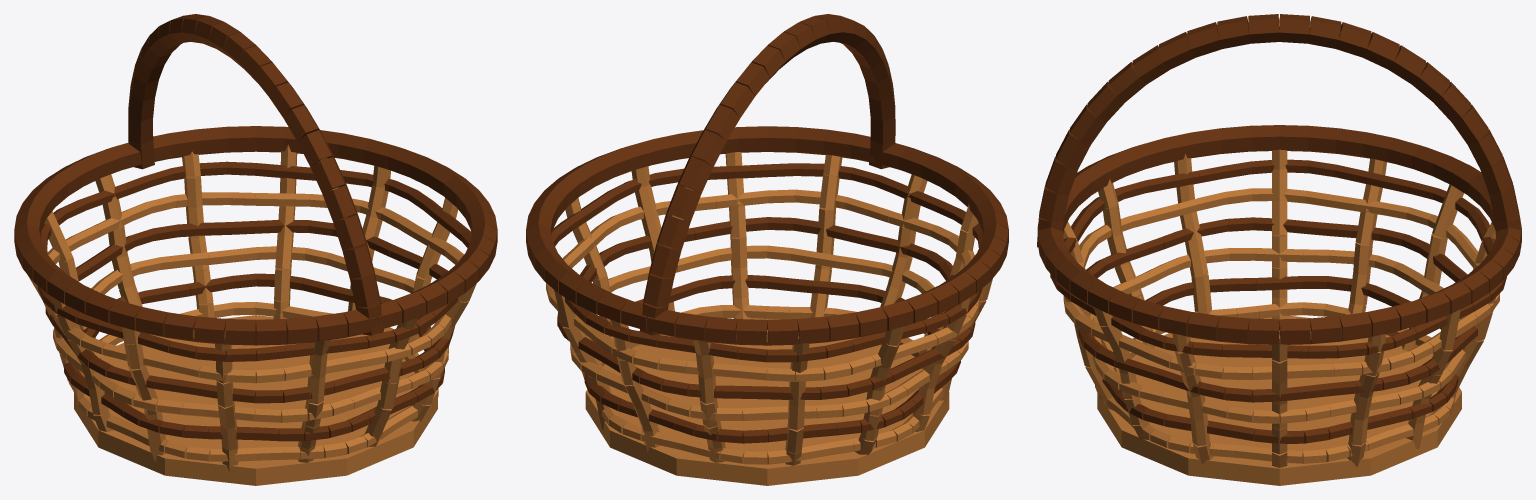
Rendered from Wicker Basket.fbx.
3 views of the same model, side by side, from view 1: azimuth 30°, elevation 25°; view 2: azimuth 150°, elevation 25°; view 3: azimuth 270°, elevation 25° (orthographic).
Parts seen in each view (by area): view 1: WickerBasket; view 2: WickerBasket; view 3: WickerBasket.
Boxes of the visible parts, left/top/right/bottom form: WickerBasket: left=14, top=14, right=497, bottom=485; WickerBasket: left=526, top=14, right=1008, bottom=485; WickerBasket: left=1037, top=14, right=1521, bottom=485.
Size of the model in its own units: 3.06 by 2.66 by 3.06.
